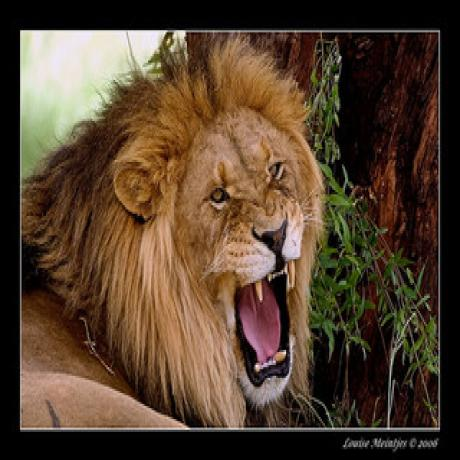Lion: (22, 38, 322, 430)
